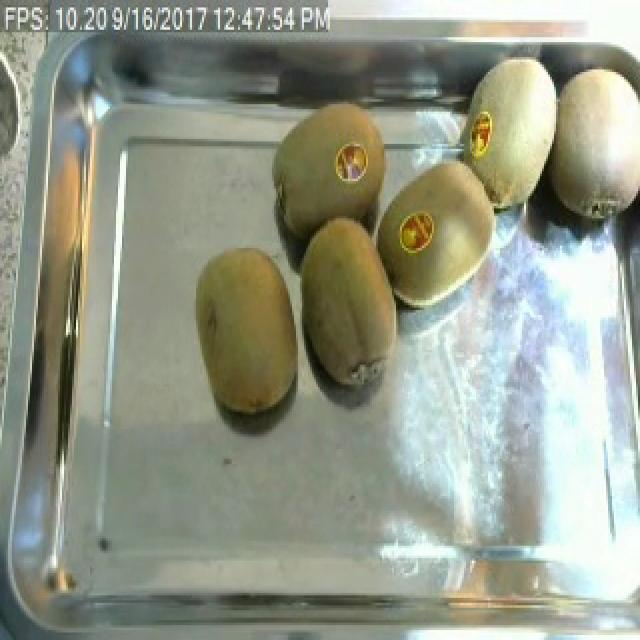Fruit: (182, 238, 310, 427), (288, 206, 412, 399), (268, 89, 404, 253), (382, 146, 510, 320), (452, 44, 558, 220), (546, 52, 640, 236)
